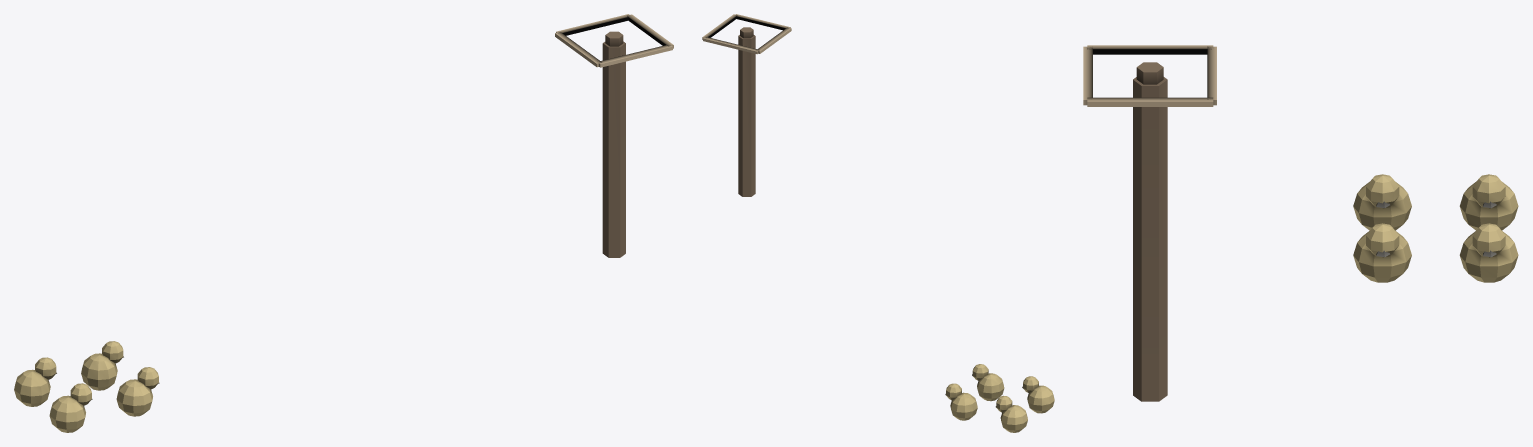
Rendered from barn_l2.glb.
3 views of the same model, side by side, from view 1: azimuth 30°, elevation 25°; view 2: azimuth 150°, elevation 25°; view 3: azimuth 270°, elevation 25° (orthographic). The views are drawn at different scales.
Parts seen in each view (by area): view 1: wtower; view 2: wtower; view 3: wtower.
Part boxes in pixels (x1=…): wtower: x1=14, y1=14, x2=673, y2=432; wtower: x1=702, y1=14, x2=1054, y2=432; wtower: x1=1083, y1=45, x2=1518, y2=401.
Size of the model in its own units: 4.68 by 2.89 by 2.25.
